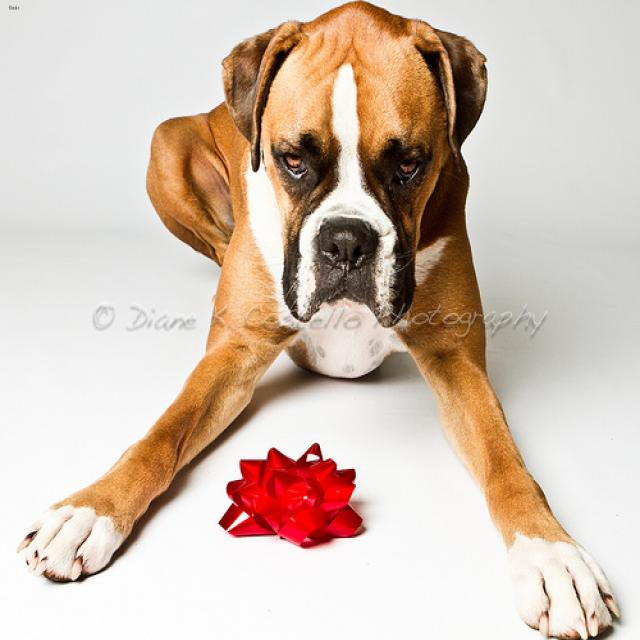dog-boxer: (1, 1, 635, 637)
